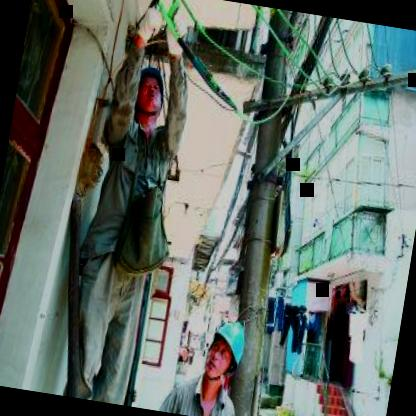helmet: (198, 310, 250, 398), (130, 62, 168, 130)
